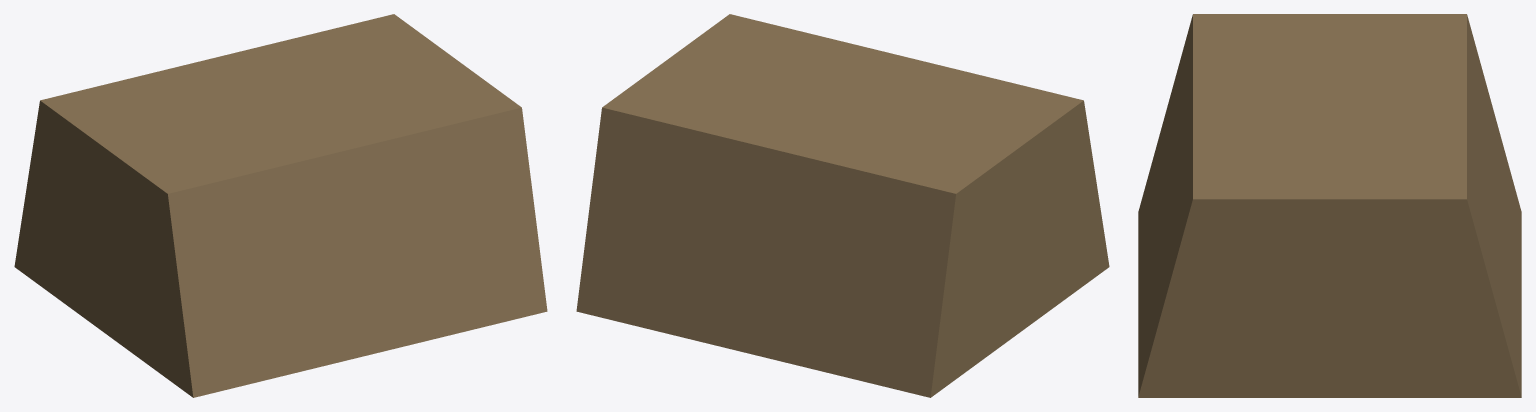
The model's file is earthwall-A-LOD2.glb.
The picture shows the model from 3 angles, left to right: view 1: azimuth 30°, elevation 25°; view 2: azimuth 150°, elevation 25°; view 3: azimuth 270°, elevation 25°; orthographic projection. The views are drawn at different scales.
Visible parts, largest first — view 1: earthwall-A-LOD2; view 2: earthwall-A-LOD2; view 3: earthwall-A-LOD2.
Boxes of the visible parts, <box> form: earthwall-A-LOD2: <box>14,14,547,397</box>; earthwall-A-LOD2: <box>576,14,1109,397</box>; earthwall-A-LOD2: <box>1138,14,1521,397</box>.
Size of the model in its own units: 16 by 8 by 14.
